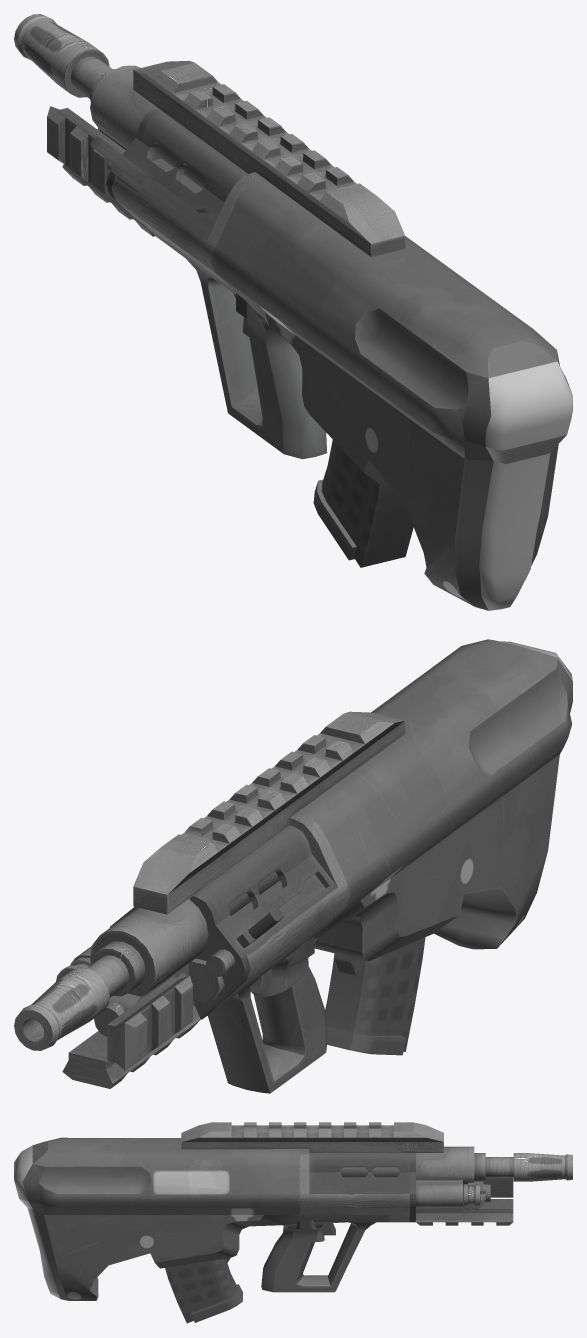
Rendered from IG_Gun_AUGA3.fbx.
3 views of the same model, one above another, from view 1: azimuth 30°, elevation 25°; view 2: azimuth 150°, elevation 25°; view 3: azimuth 270°, elevation 25° (orthographic). The views are drawn at different scales.
Visible parts, largest first — view 1: WPN_AUGA3, HideIf_Muzzle; view 2: WPN_AUGA3, HideIf_Muzzle; view 3: WPN_AUGA3, HideIf_Muzzle.
Boxes of the visible parts, x1,y1,x2,y2 form: WPN_AUGA3: (47,56,572,610); HideIf_Muzzle: (14,14,109,97); WPN_AUGA3: (56,639,572,1093); HideIf_Muzzle: (14,967,109,1050); WPN_AUGA3: (14,1122,513,1323); HideIf_Muzzle: (513,1153,572,1181).
Bounding box in the file's own units: 0.1975 × 0.3988 × 1.06.
